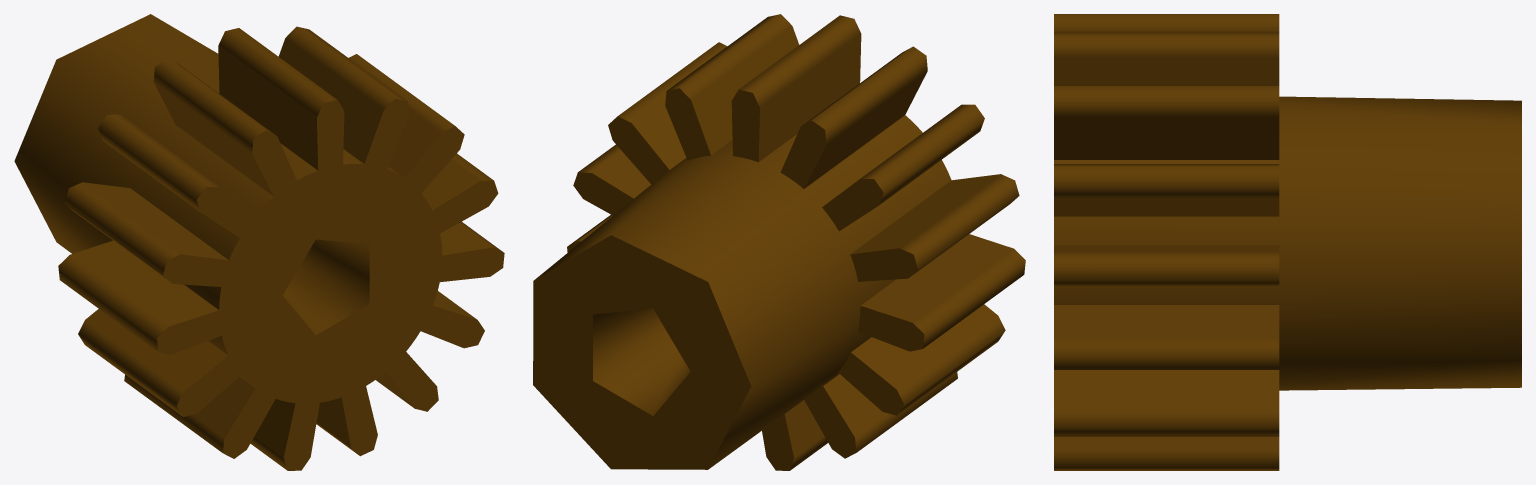
Rendered from Roue lien limacons-pignon_Roue de temps.obj.
The picture shows the model from 3 angles, left to right: view 1: azimuth 30°, elevation 25°; view 2: azimuth 150°, elevation 25°; view 3: azimuth 270°, elevation 25°; orthographic projection. The views are drawn at different scales.
Parts seen in each view (by area): view 1: Face_16, Face_19, Face_64, Face_24, Face_32, Face_25, Face_22, Face_20, Face_28, Face_35, Face_17, Face_31 (+12 smaller); view 2: Face_19, Face_63, Face_64, Face_24, Face_32, Face_25, Face_22, Face_20, Face_28, Face_35, Face_17, Face_31 (+21 smaller); view 3: Face_19, Face_61, Face_54, Face_55, Face_58, Face_57, Face_52, Face_21, Face_49, Face_18, Face_17, Face_46 (+4 smaller).
Boxes of the visible parts, x1,y1,x2,y2 form: Face_16: [157, 98, 504, 470]; Face_19: [14, 14, 403, 386]; Face_64: [282, 239, 369, 334]; Face_24: [218, 46, 318, 170]; Face_32: [70, 240, 218, 326]; Face_25: [98, 114, 218, 212]; Face_22: [153, 58, 275, 153]; Face_20: [278, 38, 383, 163]; Face_28: [64, 182, 180, 282]; Face_35: [85, 309, 227, 391]; Face_17: [218, 28, 336, 117]; Face_31: [58, 255, 167, 351]; Face_19: [535, 115, 951, 469]; Face_63: [533, 235, 751, 469]; Face_64: [593, 309, 690, 415]; Face_24: [758, 34, 861, 161]; Face_32: [861, 234, 1013, 322]; Face_25: [860, 104, 984, 205]; Face_22: [801, 46, 927, 144]; Face_20: [691, 26, 799, 155]; Face_28: [900, 174, 1019, 277]; Face_35: [851, 304, 997, 389]; Face_17: [739, 15, 861, 107]; Face_31: [913, 249, 1025, 348]; Face_19: [1054, 96, 1521, 390]; Face_61: [1054, 117, 1279, 159]; Face_54: [1054, 370, 1279, 408]; Face_55: [1054, 251, 1279, 287]; Face_58: [1054, 164, 1279, 198]; Face_57: [1054, 305, 1279, 337]; Face_52: [1054, 338, 1279, 369]; Face_21: [1054, 86, 1279, 117]; Face_49: [1054, 408, 1279, 436]; Face_18: [1054, 58, 1279, 85]; Face_17: [1054, 31, 1279, 57]; Face_46: [1054, 450, 1279, 470].
Size of the model in its own units: 0.0132 by 0.0132 by 0.0135.
